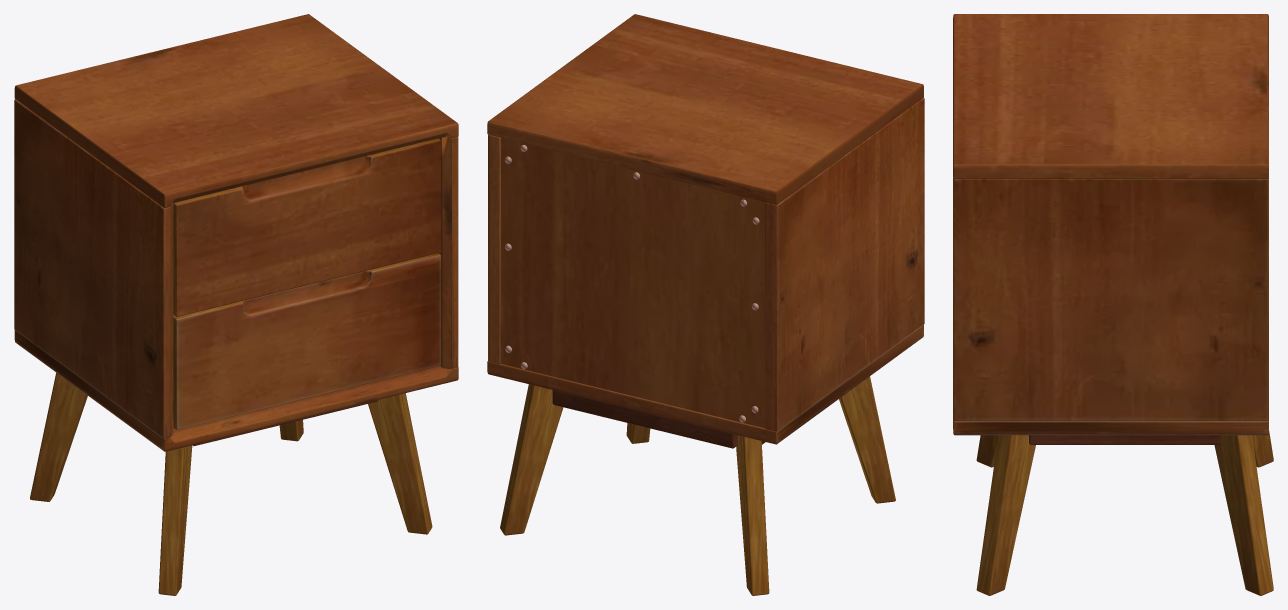
Rendered from bedside-table.glb.
3 views of the same model, side by side, from view 1: azimuth 30°, elevation 25°; view 2: azimuth 150°, elevation 25°; view 3: azimuth 270°, elevation 25° (orthographic). The views are drawn at different scales.
Parts seen in each view (by area): view 1: RootNode; view 2: RootNode; view 3: RootNode.
Part boxes in pixels (left/top/right/bottom): RootNode: left=14, top=14, right=458, bottom=595; RootNode: left=487, top=14, right=924, bottom=595; RootNode: left=953, top=14, right=1273, bottom=595.
Bounding box in the file's own units: 0.4605 × 0.6181 × 0.4113.
Materials: 1 (1 with a texture image).
